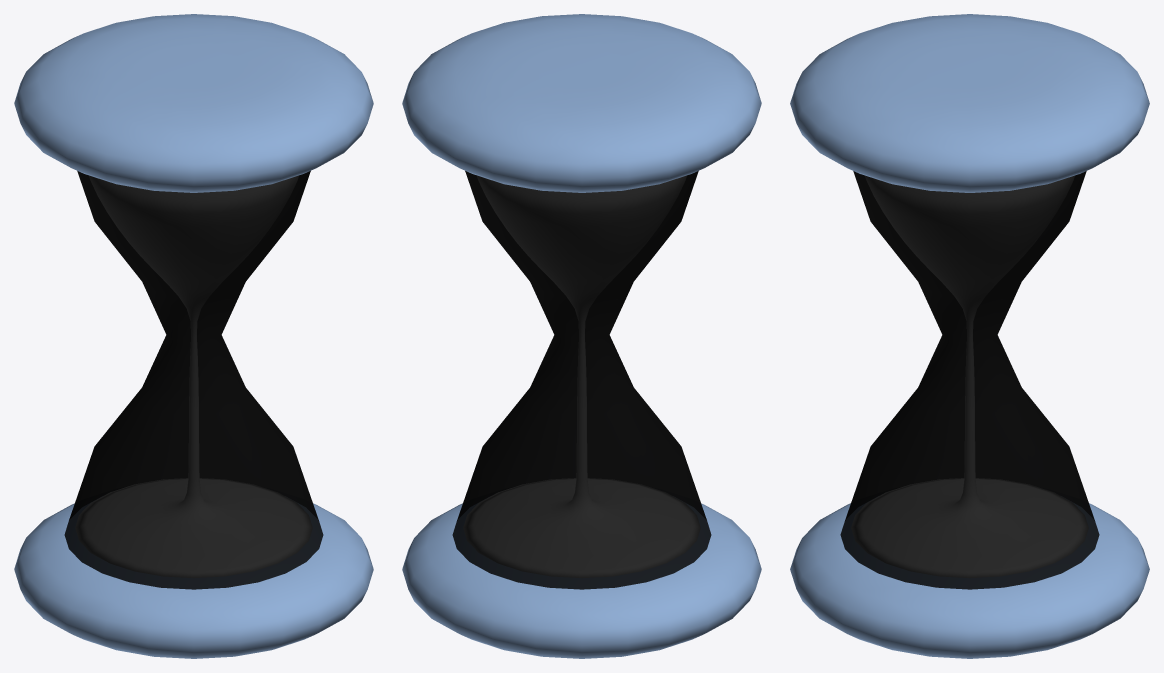
File: why.fbx
The picture shows the model from 3 angles, left to right: view 1: azimuth 30°, elevation 25°; view 2: azimuth 150°, elevation 25°; view 3: azimuth 270°, elevation 25°; orthographic projection.
Visible parts, largest first — view 1: nurbsToPoly6, nurbsToPoly7, nurbsToPoly8; view 2: nurbsToPoly6, nurbsToPoly7, nurbsToPoly8; view 3: nurbsToPoly6, nurbsToPoly7, nurbsToPoly8.
Boxes of the visible parts, bbox=[...] form: nurbsToPoly6: bbox=[64, 171, 323, 589]; nurbsToPoly7: bbox=[14, 14, 373, 192]; nurbsToPoly8: bbox=[14, 503, 373, 658]; nurbsToPoly6: bbox=[452, 171, 711, 589]; nurbsToPoly7: bbox=[402, 14, 761, 192]; nurbsToPoly8: bbox=[402, 503, 761, 658]; nurbsToPoly6: bbox=[840, 171, 1099, 589]; nurbsToPoly7: bbox=[790, 14, 1149, 192]; nurbsToPoly8: bbox=[790, 503, 1149, 658].
Size of the model in its own units: 2.78 by 4.57 by 2.78.
